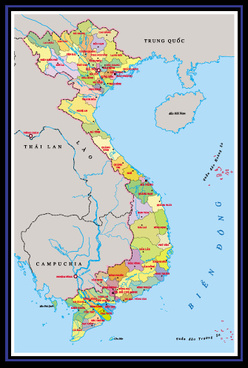Island: (176, 318, 234, 347), (197, 141, 234, 186)
